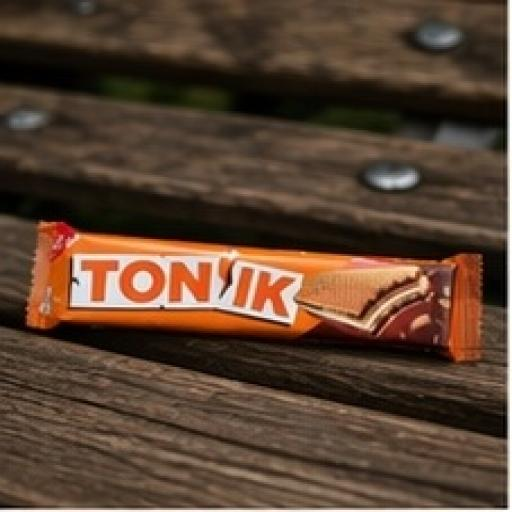tonik: (9, 156, 495, 377)
